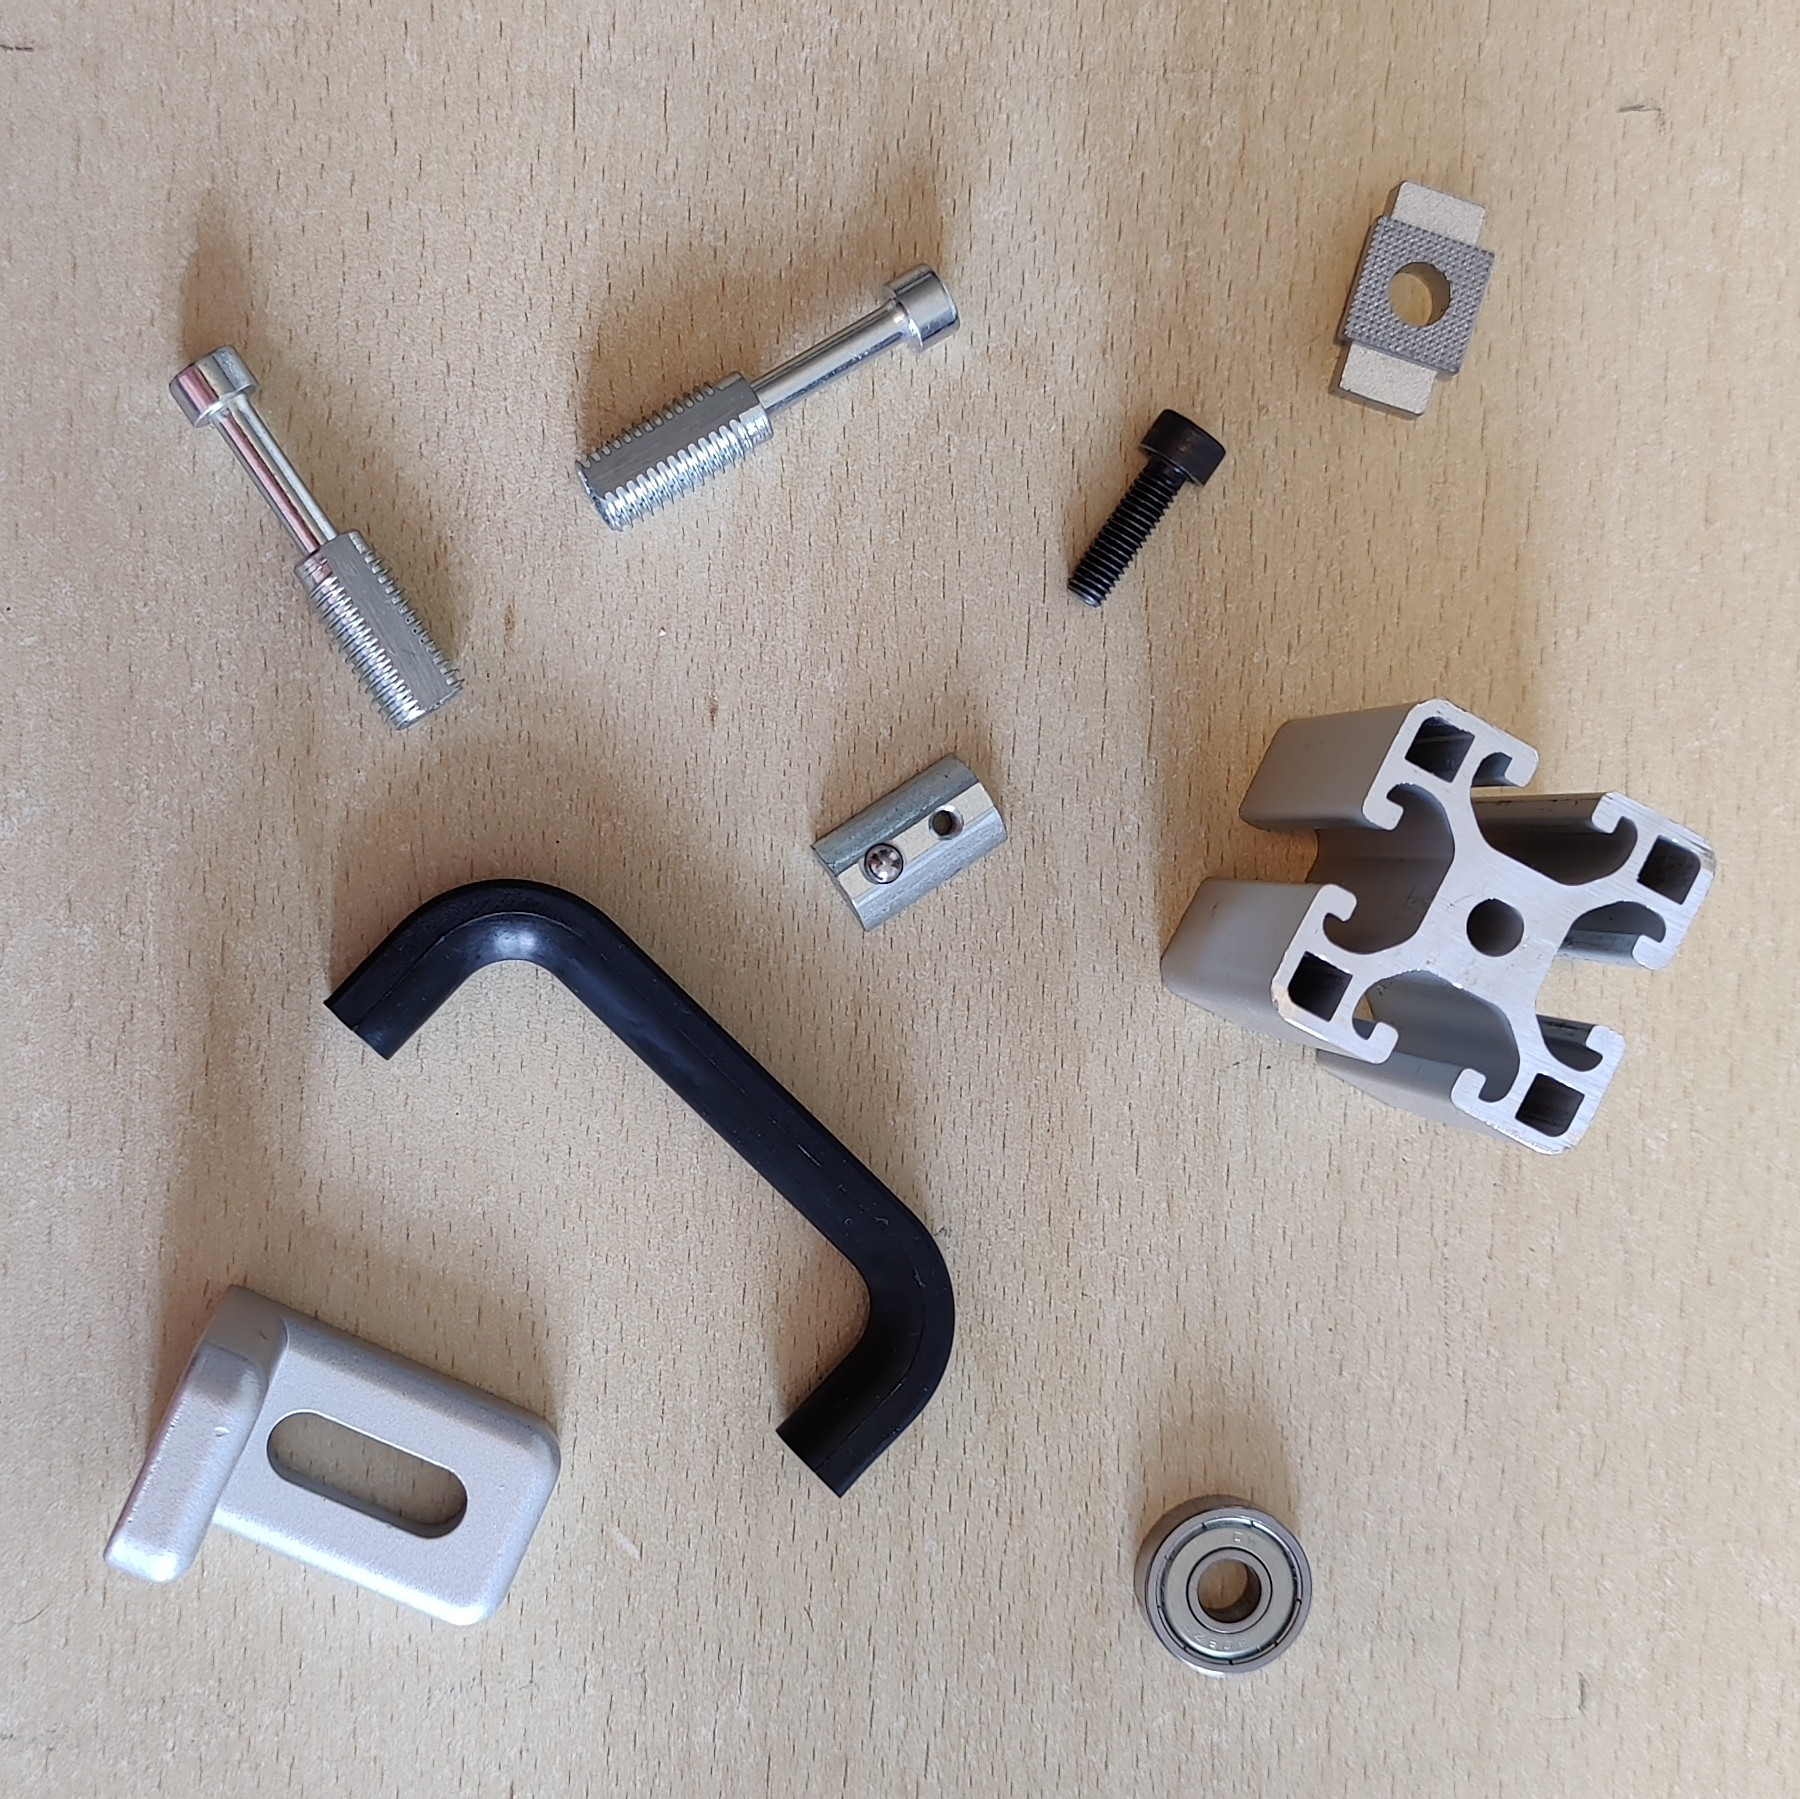Aluminium Extension: (1158, 695, 1721, 1160)
Ball Bearing: (1131, 1489, 1314, 1680)
Multiwinkel: (100, 1278, 565, 1629)
Pull Handle: (319, 871, 958, 1501)
Shoulder Socket Head Cap Screw: (166, 341, 469, 735), (571, 260, 965, 534)
Socket Head Cap Screw: (1062, 405, 1229, 610)
T Nut Square: (1324, 176, 1499, 422)
T Spring Nut: (805, 750, 1013, 936)
